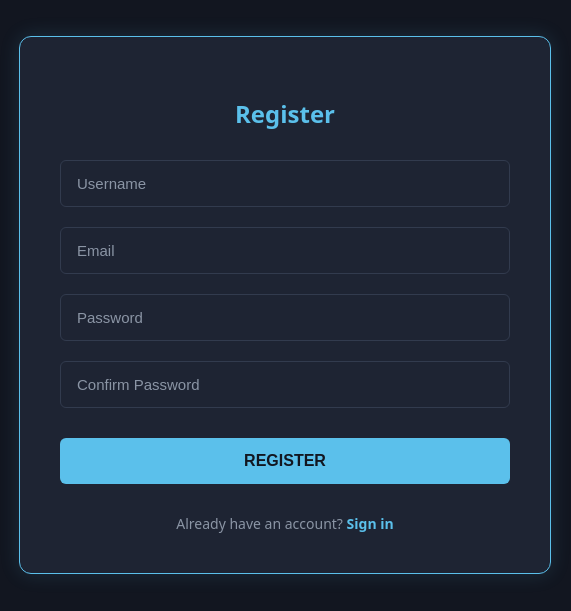
Test case: Register Component Validation › shows error when fields are empty
The width and height of the screenshot is (571, 611).
Simulate clicking the submit button without typing anything
Click the button "REGISTER". click: (285,461)
box: [60,438,510,484]
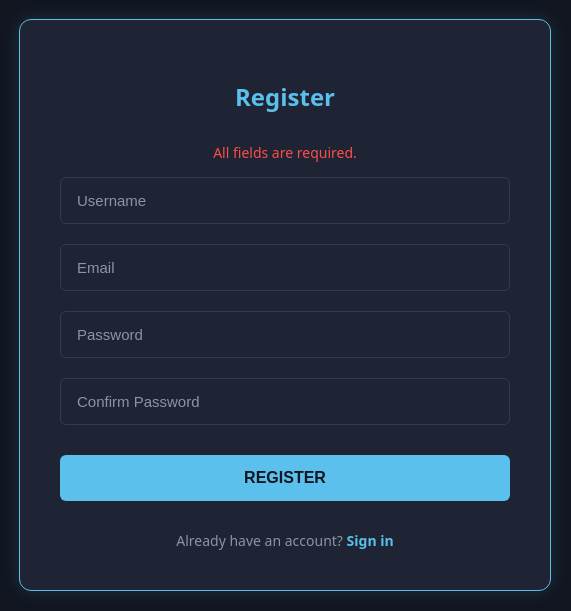
Result: the text "All fields are required." is shown at [213,143,357,162]
